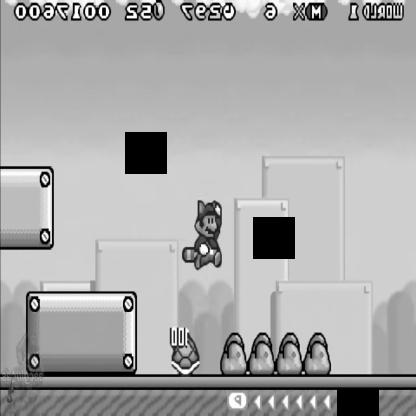Mario: (182, 200, 223, 271)
caparazon: (170, 327, 202, 378)
moneda: (152, 0, 164, 24)
